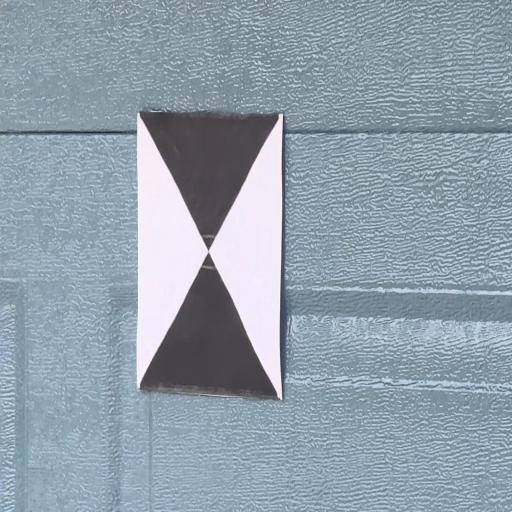target: (137, 110, 283, 397)
